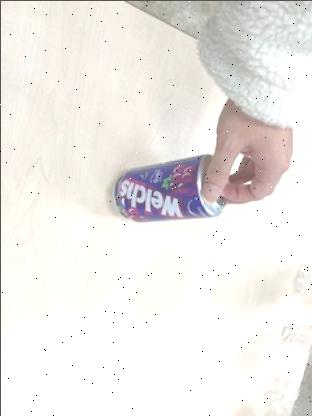Can: (110, 146, 228, 228)
